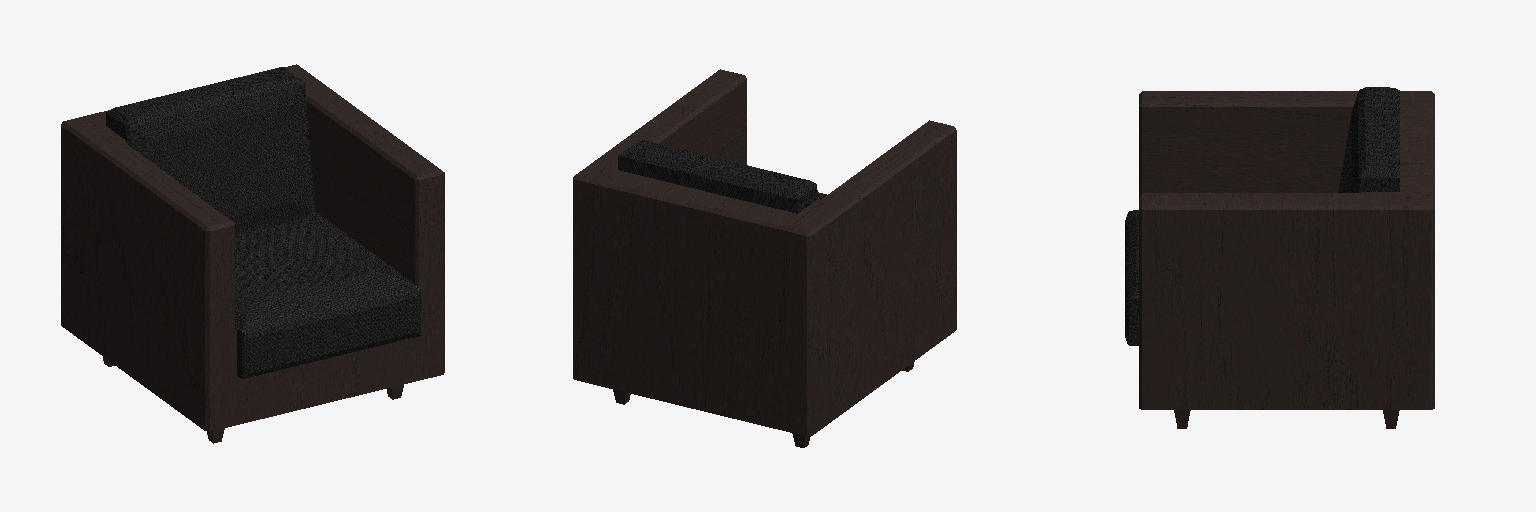
The picture shows the model from 3 angles: view 1: azimuth 30°, elevation 25°; view 2: azimuth 150°, elevation 25°; view 3: azimuth 270°, elevation 25°; orthographic projection.
Parts seen in each view (by area): view 1: Amrchair; view 2: Amrchair; view 3: Amrchair.
Part boxes in pixels (x1,y1,x2,y2): Amrchair: (61, 64, 444, 443); Amrchair: (573, 69, 956, 447); Amrchair: (1125, 87, 1434, 428).
Size of the model in its own units: 0.5 by 0.5081 by 0.56.
1 materials, 1 textured.